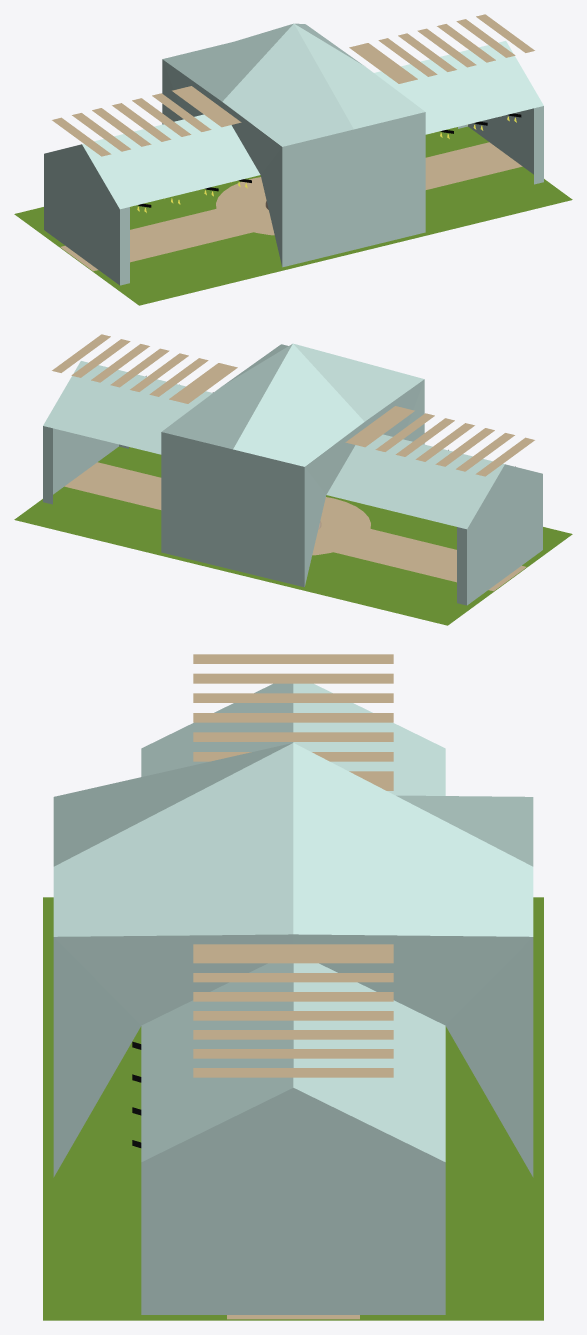
Rendered from Building.gltf.
The picture shows the model from 3 angles, top to bottom: view 1: azimuth 30°, elevation 25°; view 2: azimuth 150°, elevation 25°; view 3: azimuth 270°, elevation 25°; orthographic projection. The views are drawn at different scales.
Parts seen in each view (by area): view 1: Techos, Suelo, Alfombra, Alfombra.001, Luces; view 2: Techos, Suelo, Alfombra, Alfombra.001; view 3: Techos, Suelo, Alfombra.001.
Part boxes in pixels (left/top/right/bottom): Techos: left=44, top=23, right=543, bottom=285; Suelo: left=14, top=126, right=572, bottom=305; Alfombra: left=60, top=142, right=522, bottom=271; Alfombra.001: left=52, top=14, right=534, bottom=156; Luces: left=137, top=113, right=521, bottom=212; Techos: left=43, top=343, right=542, bottom=605; Suelo: left=14, top=446, right=572, bottom=625; Alfombra: left=64, top=462, right=526, bottom=591; Alfombra.001: left=52, top=334, right=534, bottom=476; Techos: left=53, top=683, right=533, bottom=1314; Suelo: left=43, top=897, right=543, bottom=1320; Alfombra.001: left=193, top=654, right=393, bottom=1077.
Bounding box in the file's own units: 32 × 13.23 × 16.
